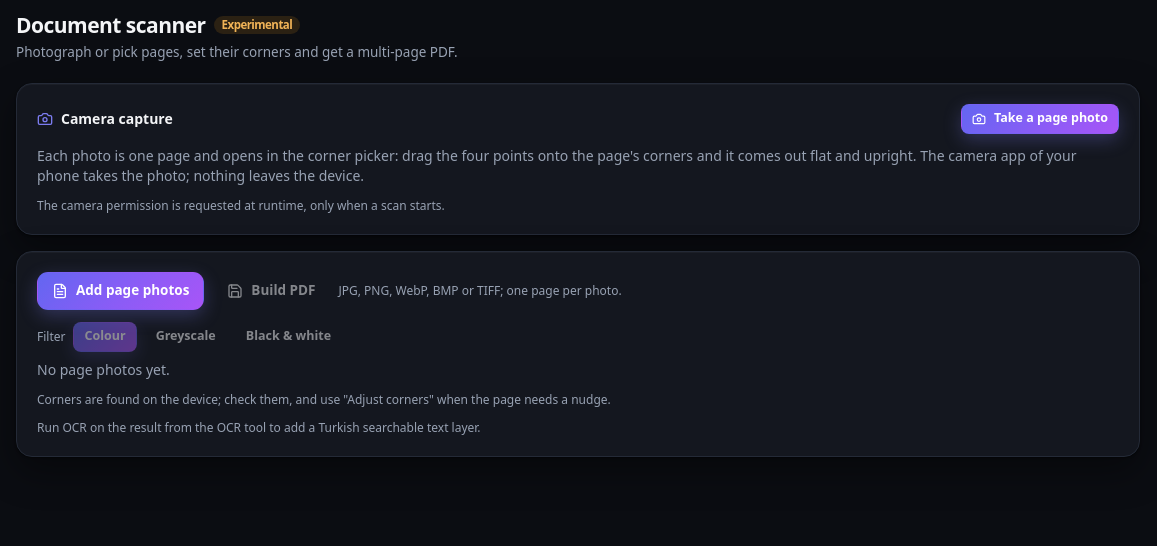
Test case: document scanner scaffold › allows reordering and clearing pages
Click the button "Add page photos". click: (121, 290)
box: top-left (37, 272), bottom-right (204, 310)
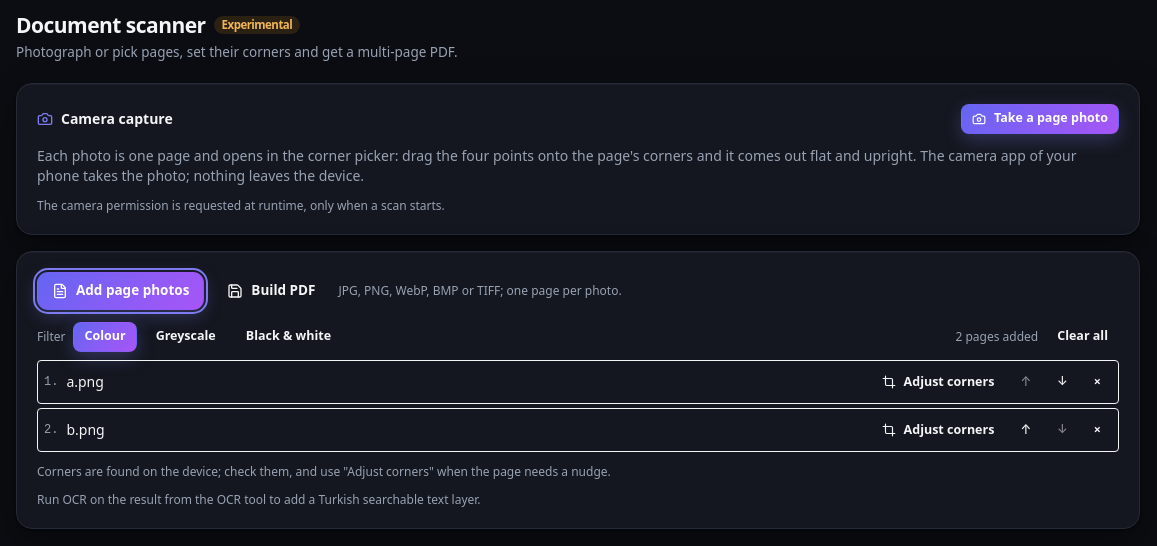
Expected: the text "a.png" is shown, top-left (66, 372), bottom-right (104, 392)
Expected: the text "b.png" is shown, top-left (66, 420), bottom-right (105, 440)
Expected: the button "Clear all" is shown
Click the button "Clear all". click: (1083, 336)
box: top-left (1046, 322), bottom-right (1119, 352)
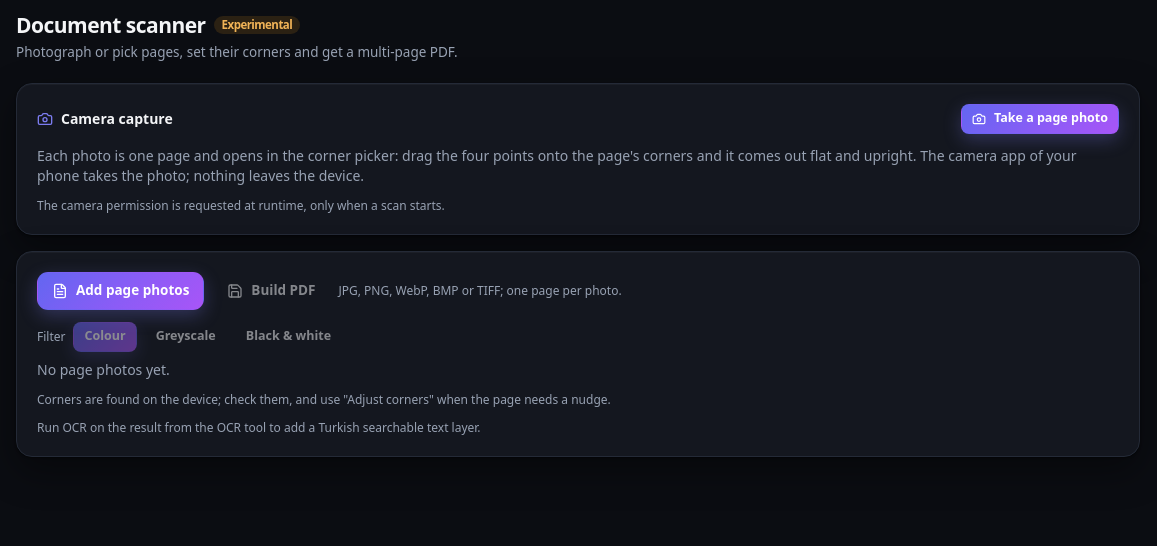
Expected: the text "a.png" is gone
